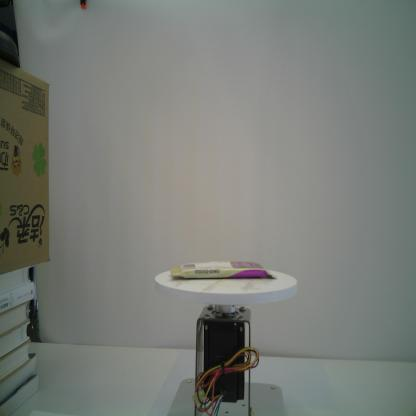Chocolate: (169, 260, 278, 280)
